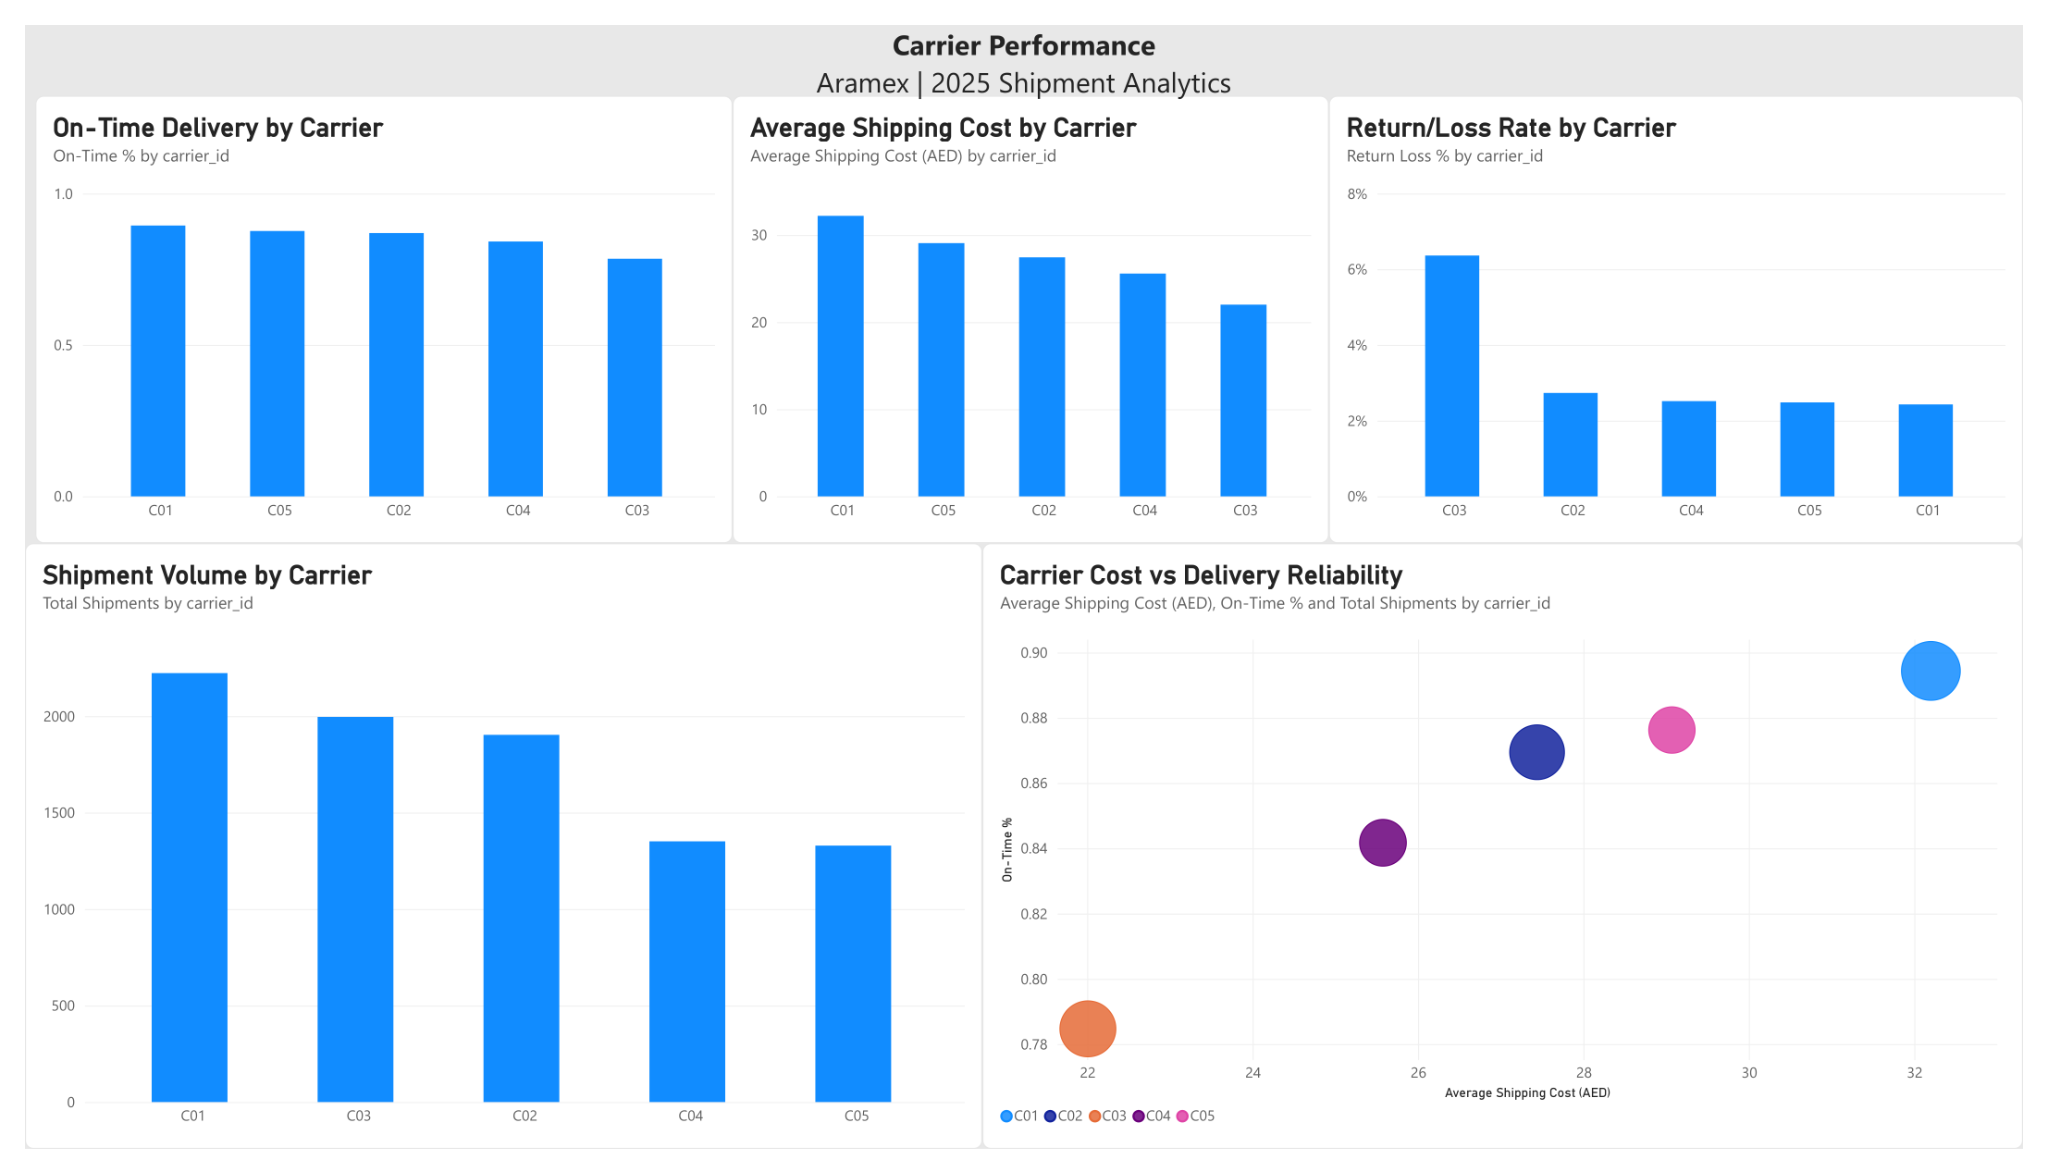

Layout of this report page (visuals, bound fields, positions):
{"tool":"powerbi","page":{"name":"Carrier Performance","canvas":[1920,1080],"ordinal":1},"visuals":[{"type":"clusteredColumnChart","title":"On-Time Delivery by Carrier","fields":{"Category":["shipments_clean.carrier_id"],"Y":["shipments_clean.On-Time %"]},"box":[10,67.5,670,430],"z":0},{"type":"clusteredColumnChart","title":"Average Shipping Cost by Carrier","fields":{"Category":["shipments_clean.carrier_id"],"Y":["shipments_clean.Average Shipping Cost"]},"box":[680,67.5,572.5,430],"z":1000},{"type":"clusteredColumnChart","title":"Return/Loss Rate by Carrier","fields":{"Category":["shipments_clean.carrier_id"],"Y":["shipments_clean.Return Loss %"]},"box":[1252.5,67.5,667.5,430],"z":2000},{"type":"clusteredColumnChart","title":"Shipment Volume by Carrier","fields":{"Category":["shipments_clean.carrier_id"],"Y":["shipments_clean.Total Shipments"]},"box":[0,497.5,920,582.5],"z":3000},{"type":"scatterChart","title":"Carrier Cost vs Delivery Reliability","fields":{"Series":["shipments_clean.carrier_id"],"Size":["shipments_clean.Total Shipments"],"X":["shipments_clean.Average Shipping Cost"],"Y":["shipments_clean.On-Time %"]},"box":[920,497.5,1000,582.5],"z":4000},{"type":"textbox","box":[0,0,1920,97.5],"z":5000}]}

Visuals, with their boxes in screenshot pixels (x1, y1, x2, y2), scaled from the page's 1920x1080 canvas onto the 2048x1173 screenshot:
"On-Time Delivery by Carrier" clusteredColumnChart: region(11, 73, 725, 540)
"Average Shipping Cost by Carrier" clusteredColumnChart: region(725, 73, 1336, 540)
"Return/Loss Rate by Carrier" clusteredColumnChart: region(1336, 73, 2047, 540)
"Shipment Volume by Carrier" clusteredColumnChart: region(0, 540, 981, 1172)
"Carrier Cost vs Delivery Reliability" scatterChart: region(981, 540, 2047, 1172)
textbox: region(0, 0, 2047, 106)
